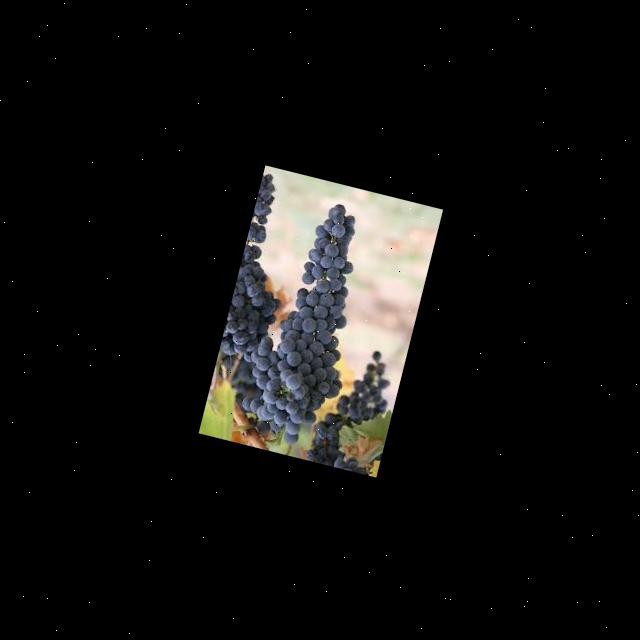grape: (200, 172, 387, 454)
